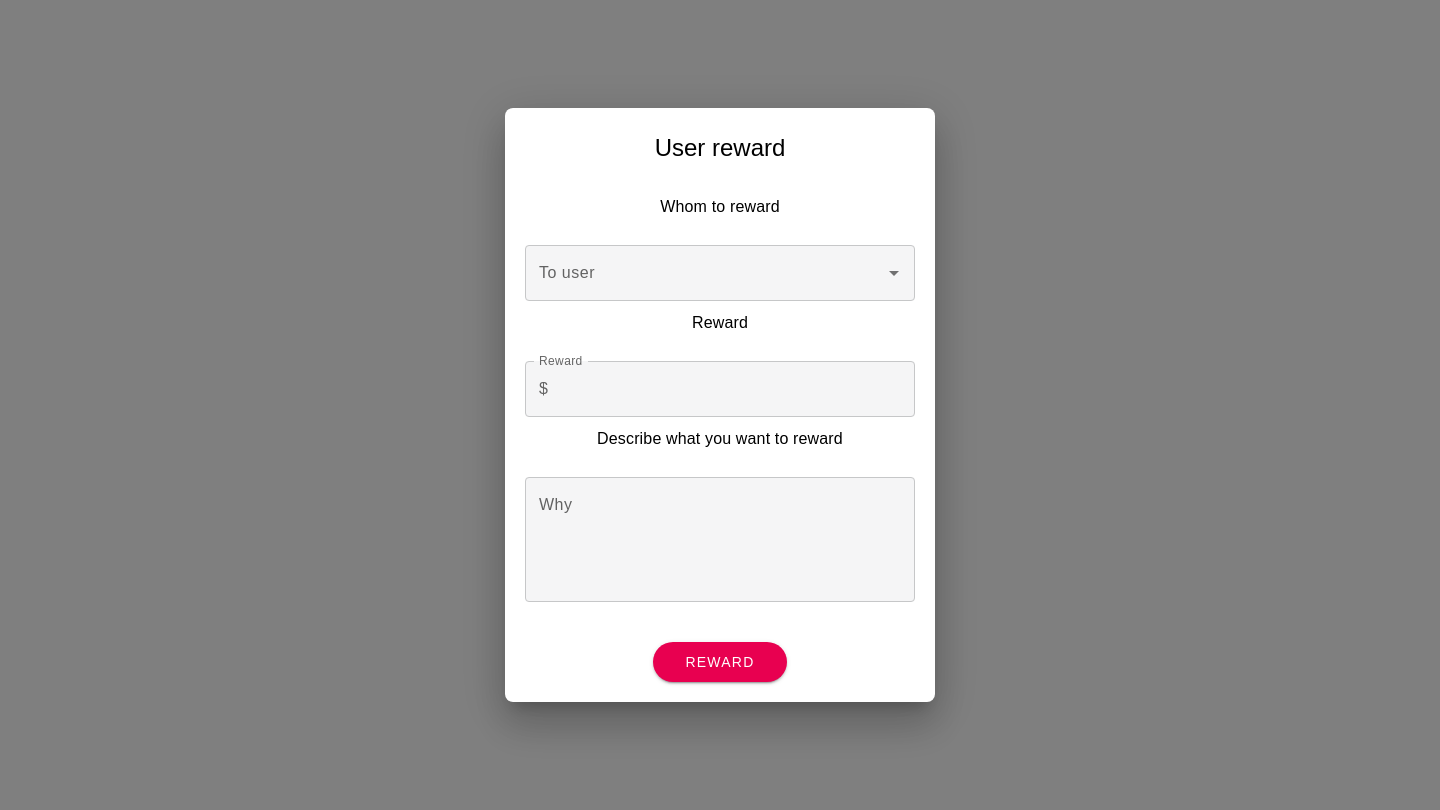
Modal form  has error
Step 1. Type "10" into the number field labelled "Reward" → (736, 388), box top-left (556, 360), bottom-right (915, 416)
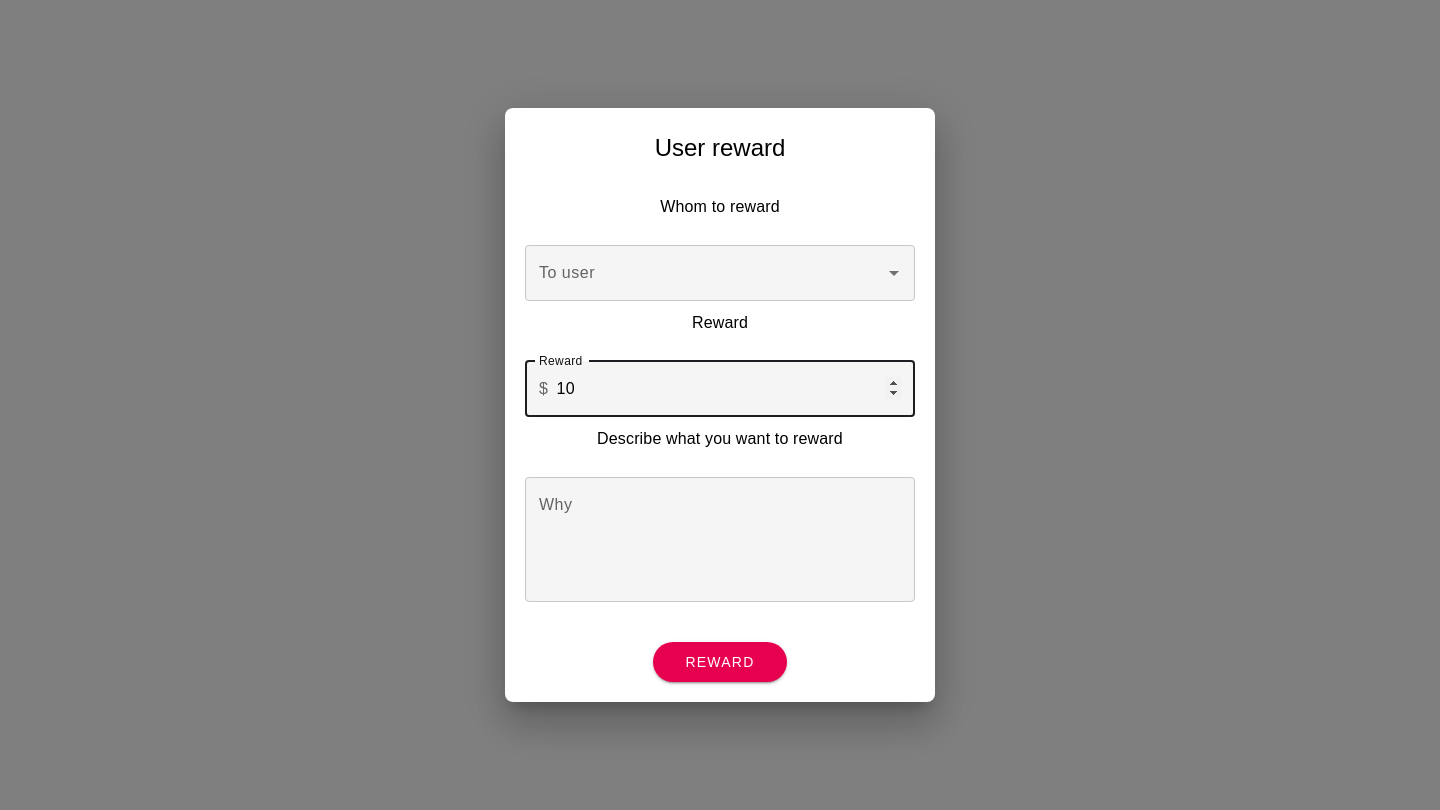
Step 2. Type "Thanks for your reward" into the text box labelled "Why" → (720, 539), box top-left (539, 493), bottom-right (901, 585)
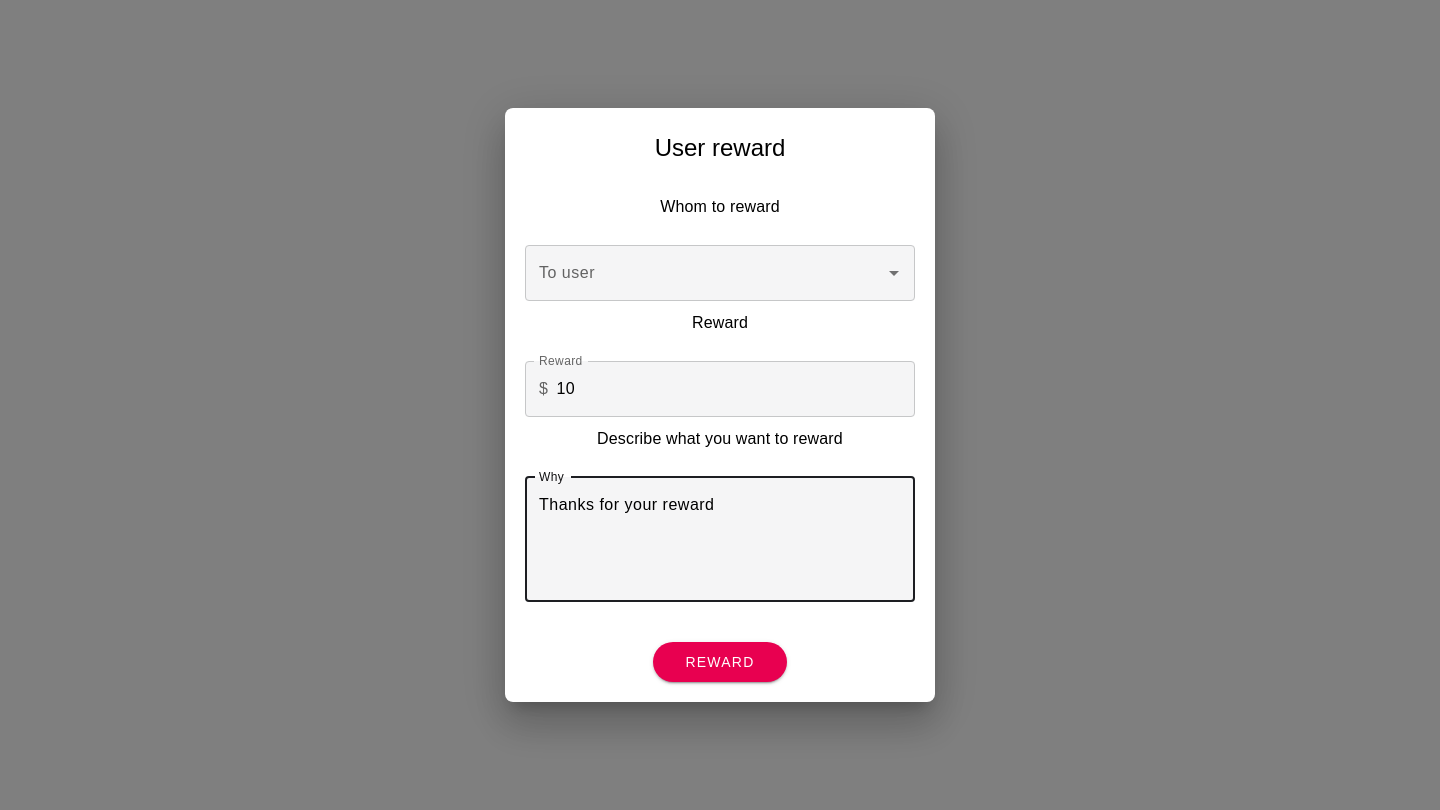
Step 3. Click the button "Reward" → (720, 662), box top-left (653, 642), bottom-right (787, 682)
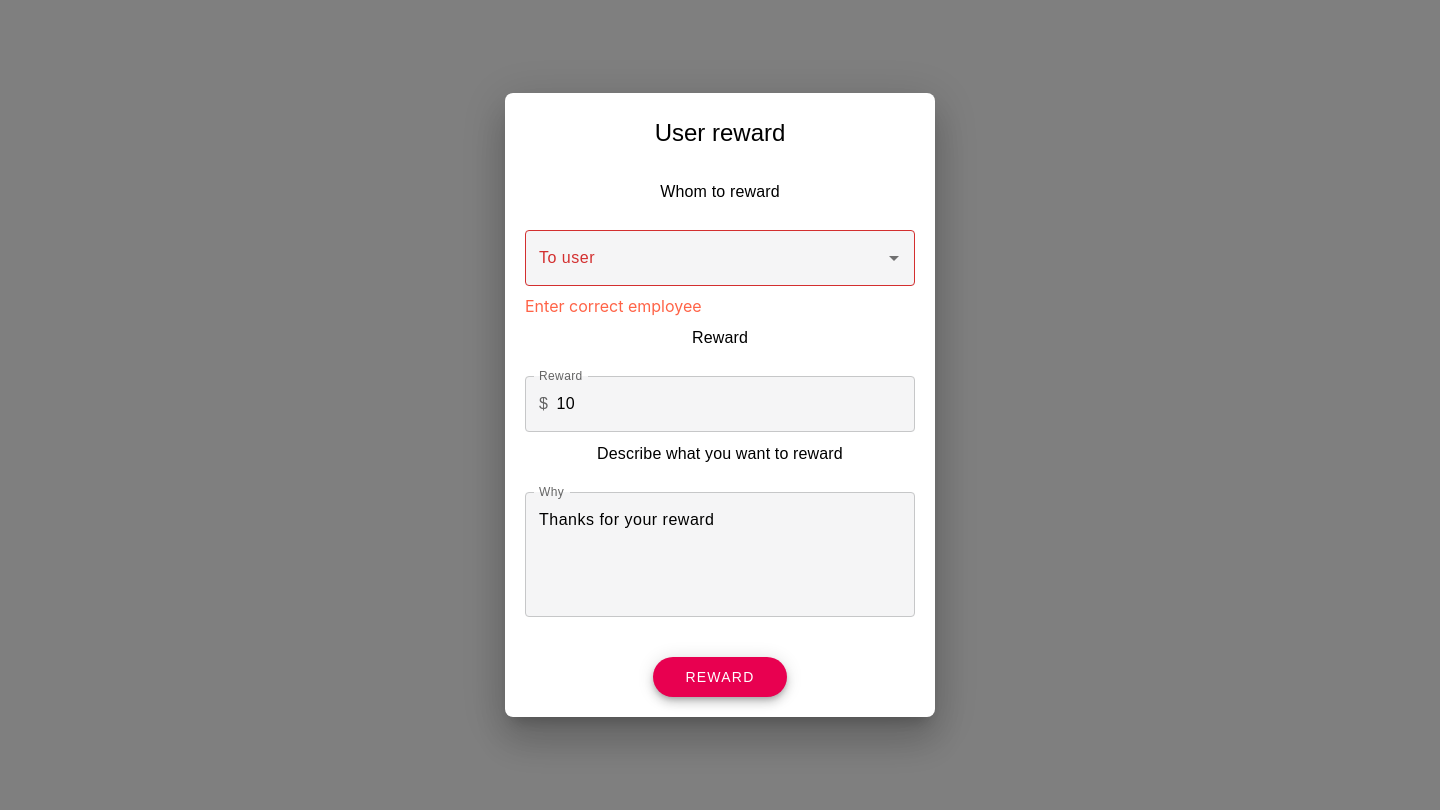
Now the text "Enter correct employee" is shown, box top-left (525, 296), bottom-right (702, 316)
